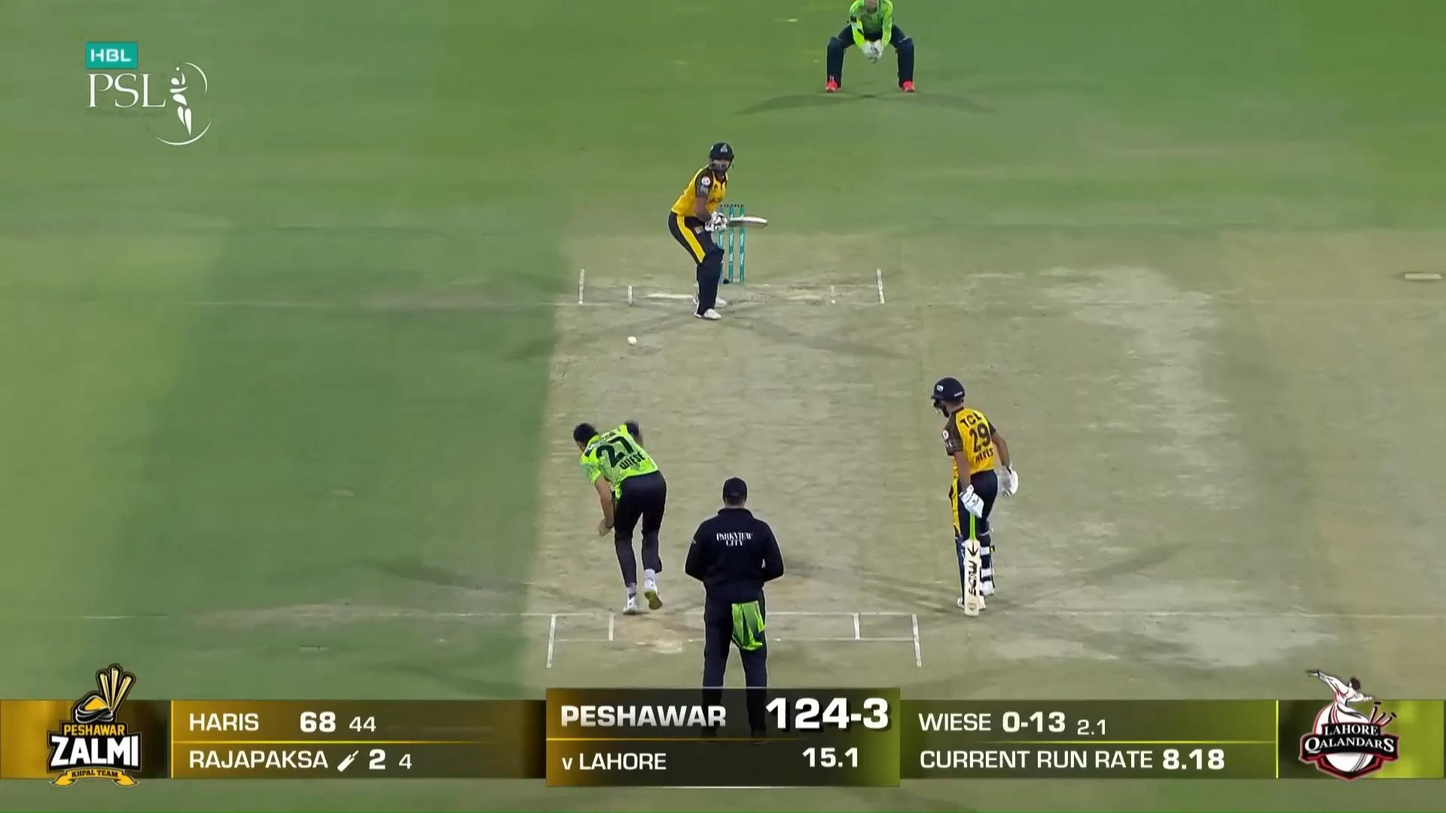batsman: (668, 141, 767, 321)
